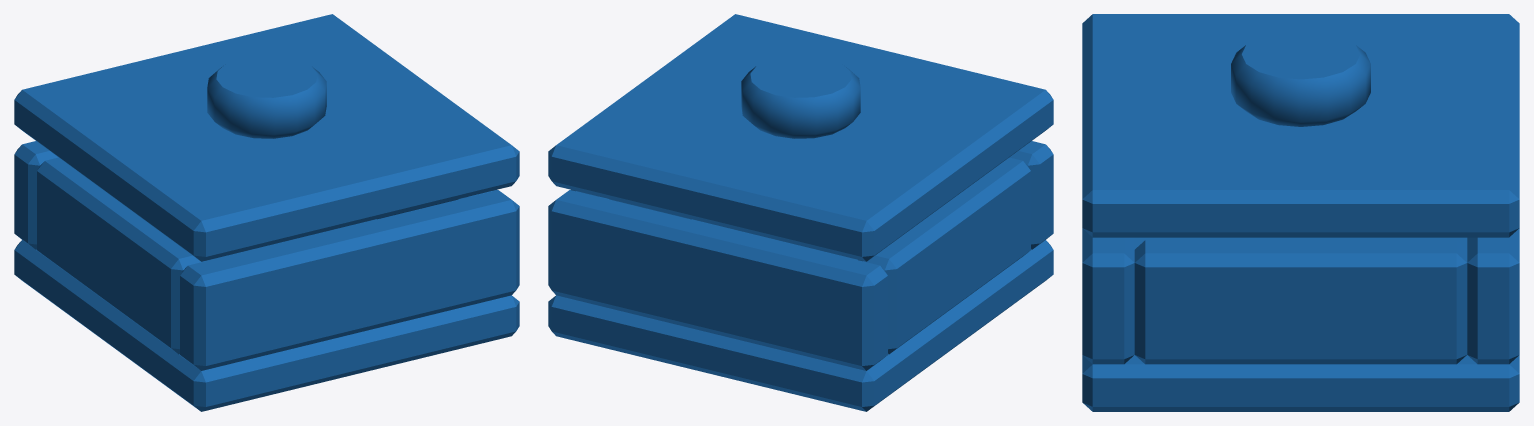
The model's file is final_product_blue.glb.
3 renders of one model, left to right at view 1: azimuth 30°, elevation 25°; view 2: azimuth 150°, elevation 25°; view 3: azimuth 270°, elevation 25°, orthographic. The views are drawn at different scales.
Parts seen in each view (by area): view 1: Item; view 2: Item; view 3: Item.
Part boxes in pixels (bbox=[...]): Item: bbox=[14, 14, 519, 411]; Item: bbox=[548, 14, 1053, 411]; Item: bbox=[1082, 14, 1519, 411].
Bounding box in the file's own units: 0.25 × 0.17 × 0.25.
